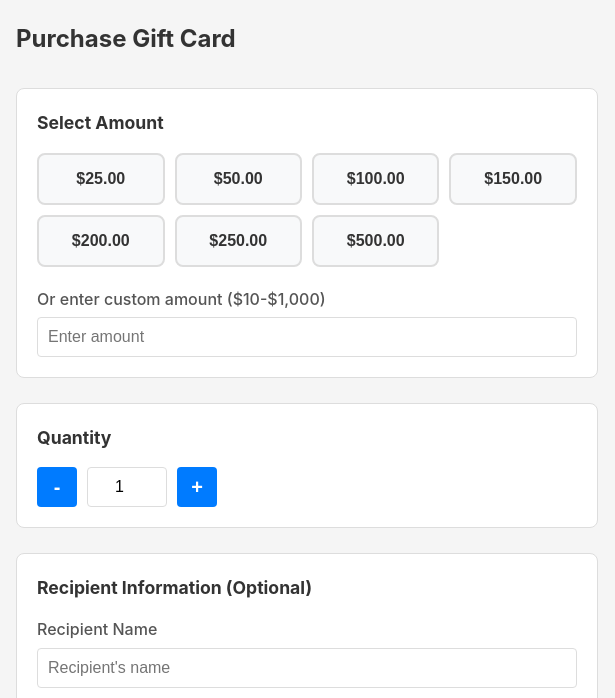
it: GiftCardPurchase › should display total amount correctly
This screenshot has width=615, height=698.
Click the button "$50.00". click: (238, 178)
box: [174,152,302,204]
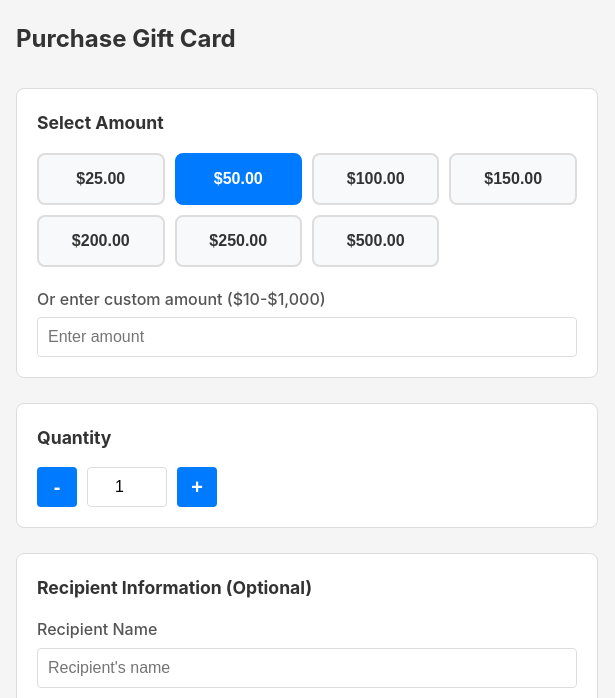
Click the button "+". click: (197, 487)
box: [177,467,217,507]
(page scrolled)
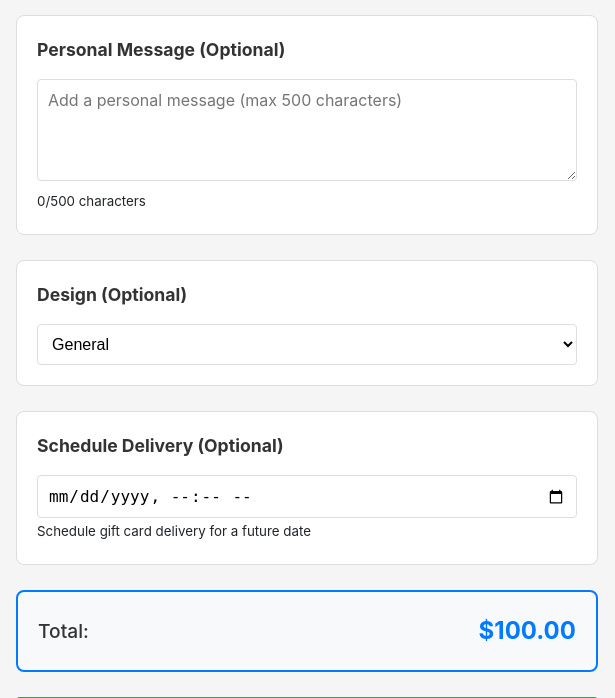
Expected: the text "Total:" is shown, [38,616,89,646]
Now the text "Total: $100.00" is shown, box [16,590,598,672]
